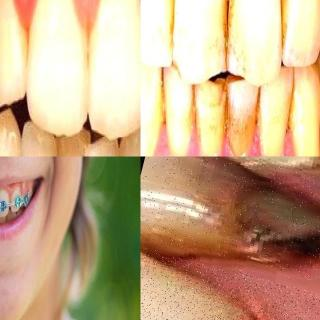cavities: (196, 176, 320, 278), (172, 295, 317, 320)
plaque: (156, 67, 170, 134), (312, 0, 320, 42)
stains: (193, 72, 224, 154), (229, 70, 257, 156), (214, 0, 246, 70), (169, 77, 192, 155), (162, 0, 182, 62), (273, 0, 294, 54)
